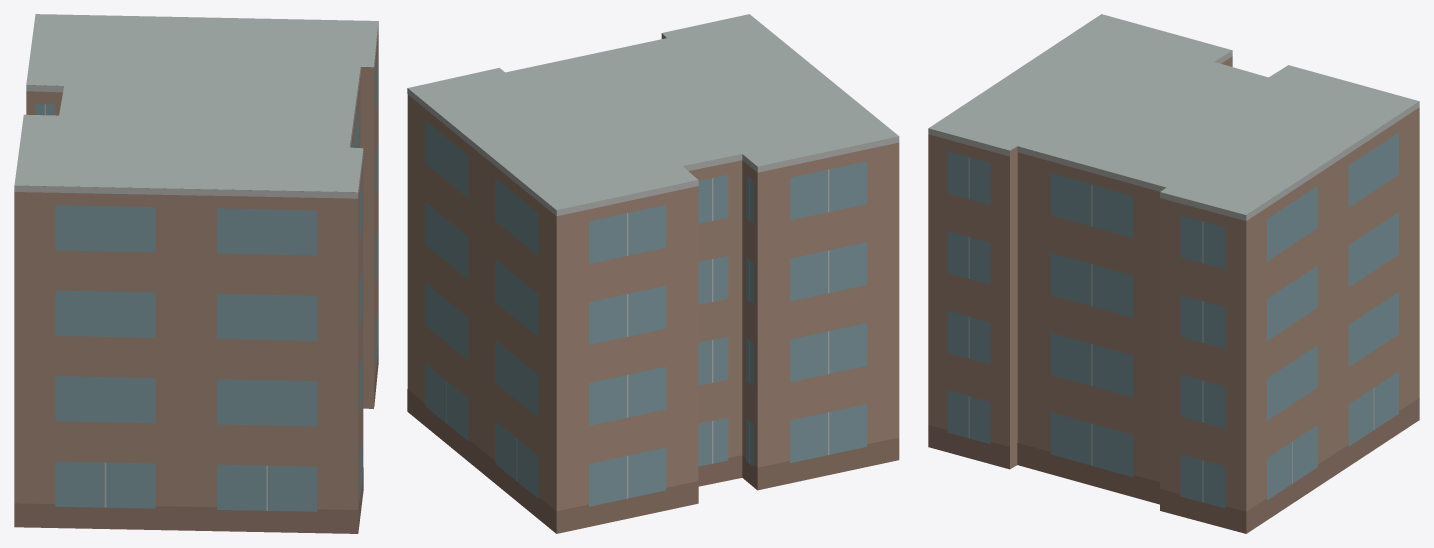
The model's file is survey-upis-32705533.glb.
3 views of the same model, side by side, from view 1: azimuth 30°, elevation 25°; view 2: azimuth 150°, elevation 25°; view 3: azimuth 270°, elevation 25° (orthographic). The views are drawn at different scales.
Parts seen in each view (by area): view 1: survey-upis-32705533.tmp; view 2: survey-upis-32705533.tmp; view 3: survey-upis-32705533.tmp.
Part boxes in pixels (left/top/right/bottom): survey-upis-32705533.tmp: left=14, top=14, right=378, bottom=533; survey-upis-32705533.tmp: left=407, top=14, right=899, bottom=533; survey-upis-32705533.tmp: left=928, top=14, right=1419, bottom=533.
Size of the model in its own units: 17.53 by 12.95 by 18.09.
